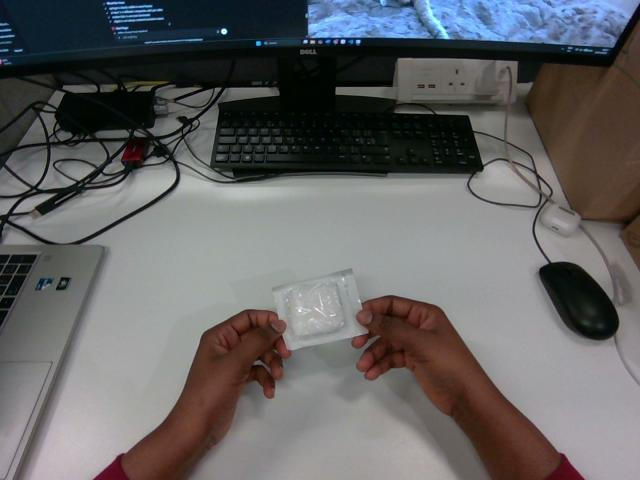gauze: (273, 269, 366, 349)
